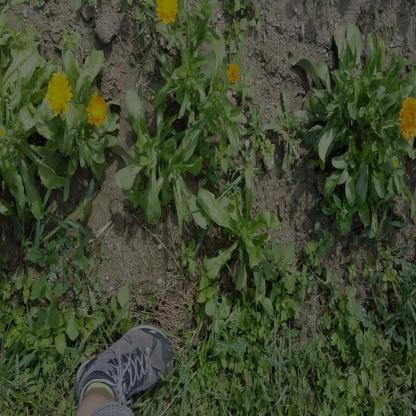marigold: (83, 92, 107, 127), (48, 74, 70, 111), (400, 96, 416, 137), (155, 0, 177, 25), (226, 61, 240, 83)
